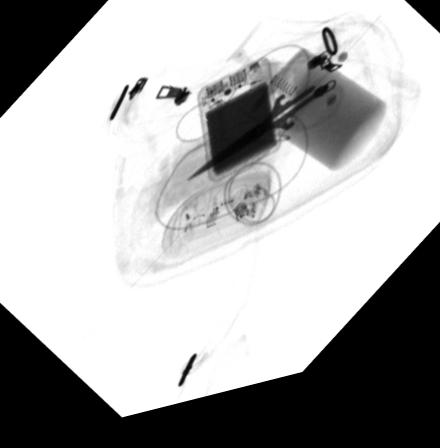Powerbank: (191, 68, 283, 194)
Scissors: (183, 67, 342, 193)
